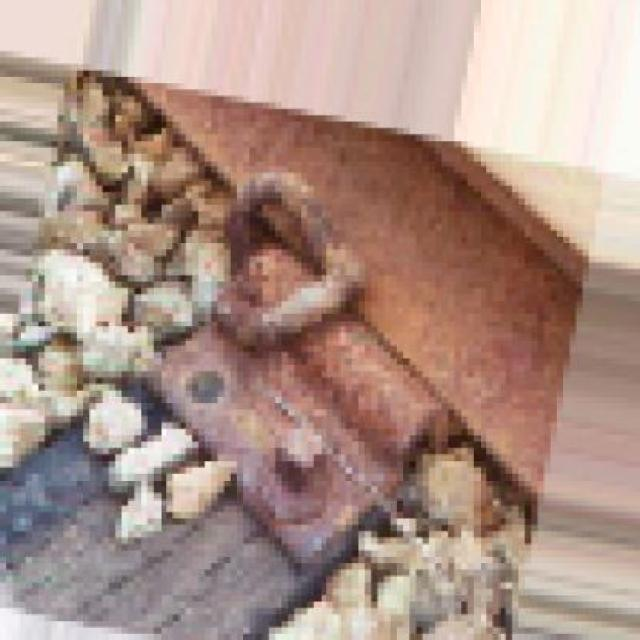defective: (8, 61, 640, 602)
